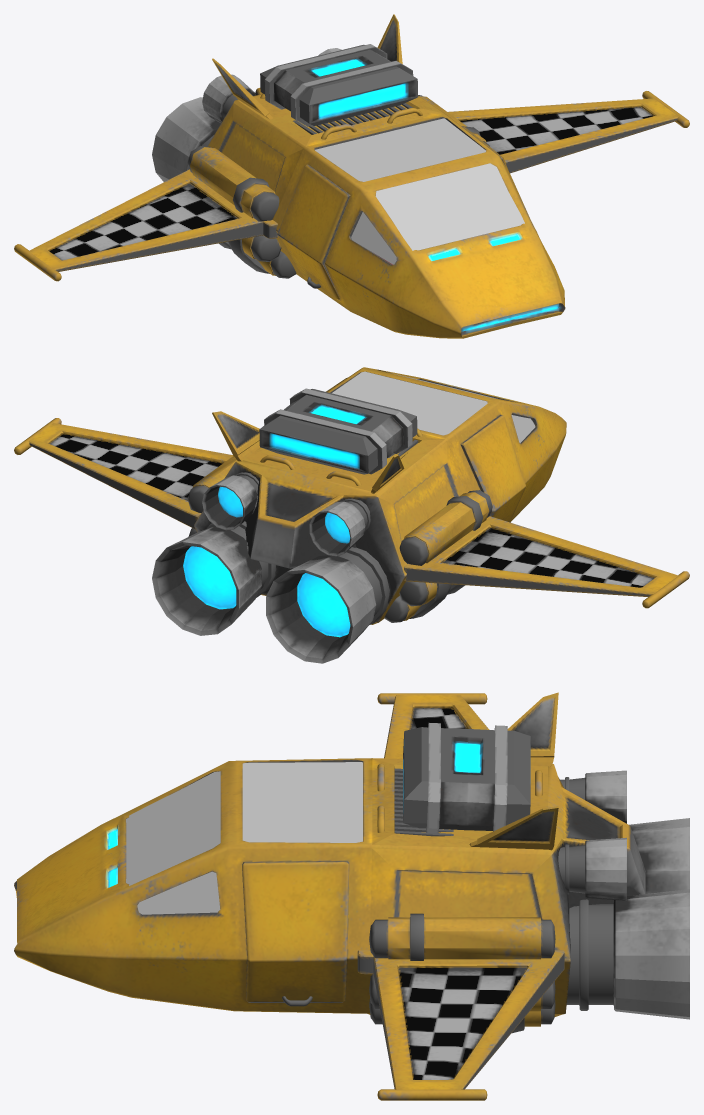
Rendered from cute spaceship.fbx.
3 renders of one model, top to bottom at view 1: azimuth 30°, elevation 25°; view 2: azimuth 150°, elevation 25°; view 3: azimuth 270°, elevation 25°, orthographic. The views are drawn at different scales.
Parts seen in each view (by area): view 1: ship24; view 2: ship24; view 3: ship24.
Part boxes in pixels (x1,y1,x2,y2): ship24: (14,14,689,338); ship24: (14,367,689,663); ship24: (14,692,689,1100).
Bounding box in the file's own units: 174 × 49.2 × 124.
